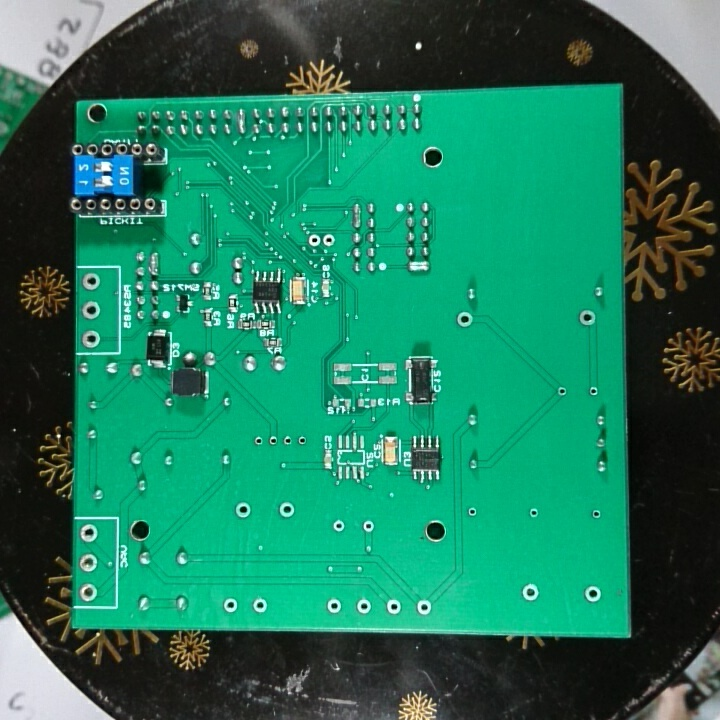F: (79, 299, 102, 323), (80, 270, 103, 294), (77, 521, 99, 546), (77, 552, 100, 575), (78, 328, 102, 350), (581, 584, 604, 606), (77, 581, 99, 603), (232, 500, 254, 522), (519, 582, 542, 603), (577, 307, 597, 330), (219, 595, 240, 616), (353, 595, 373, 617), (277, 500, 296, 523), (454, 309, 474, 330), (414, 597, 434, 617), (250, 594, 269, 615), (324, 596, 342, 618), (384, 596, 402, 617), (329, 517, 347, 537), (359, 518, 377, 535), (321, 231, 337, 250), (307, 232, 321, 250), (586, 383, 600, 400), (555, 384, 570, 399), (589, 505, 603, 521), (295, 432, 309, 448), (265, 433, 279, 449), (527, 504, 540, 521), (465, 503, 478, 520), (282, 432, 294, 450), (251, 434, 265, 449)
P: (406, 256, 432, 276), (350, 199, 364, 231), (235, 105, 248, 138), (148, 249, 162, 279)
